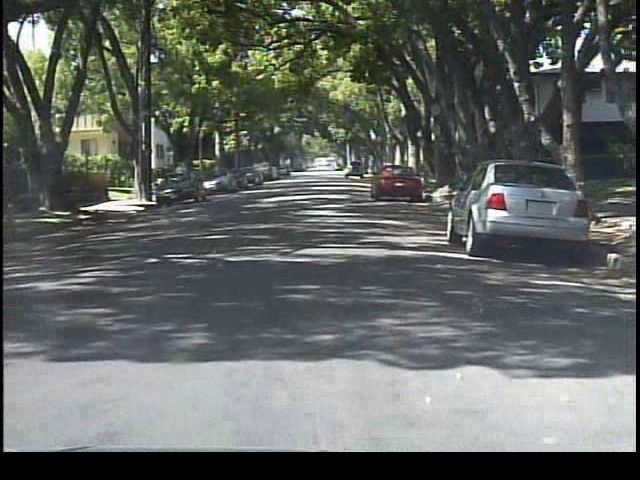person: (171, 162, 190, 196)
